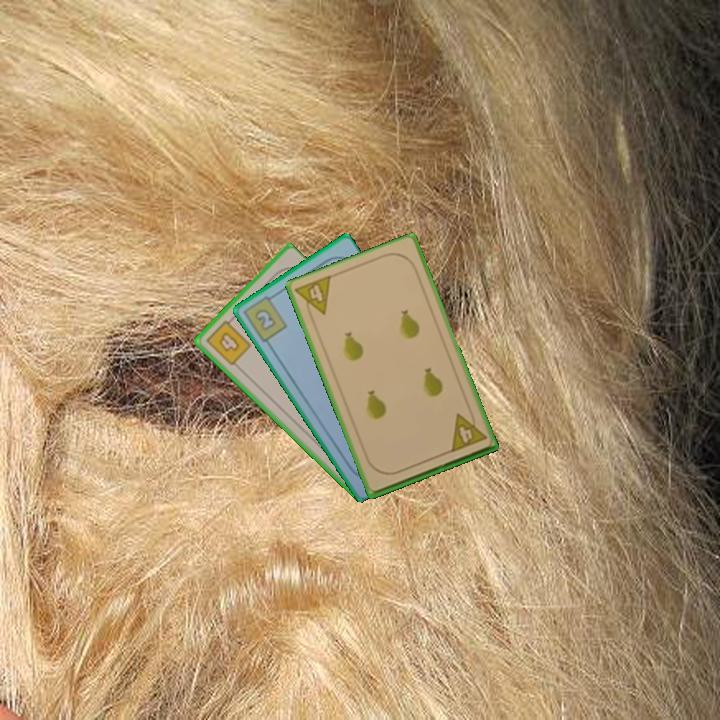2b: (240, 290, 290, 345)
4b: (202, 313, 254, 369)
4p: (291, 272, 334, 324), (447, 407, 489, 455)
